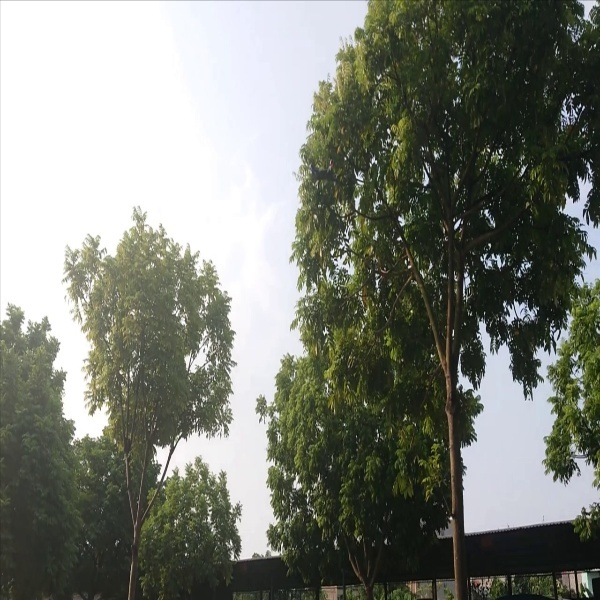drone: (301, 156, 346, 193)
